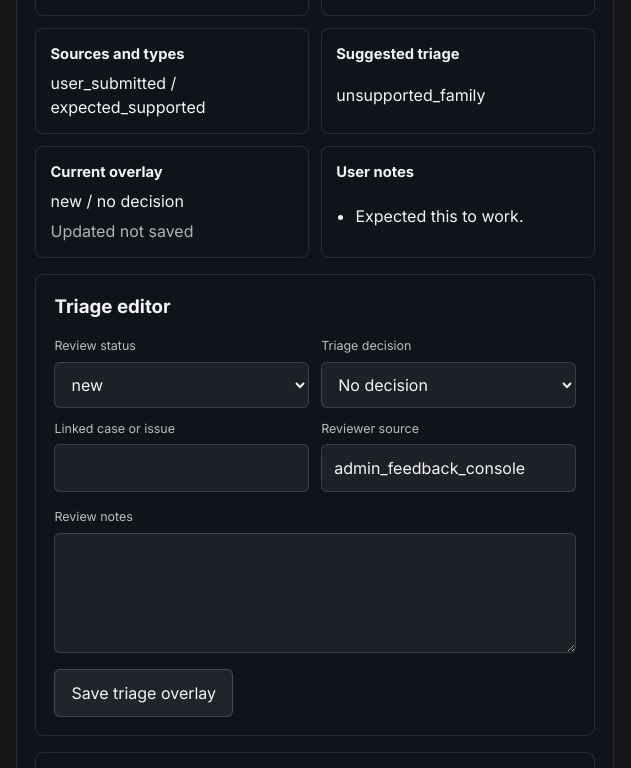
Test: AdminFeedbackPage › saves triage overlays without editing source feedback records
(page scrolled)
Select "reviewed" in the dropdown labelled "Review status" at (182, 385), box [54,362,309,408]
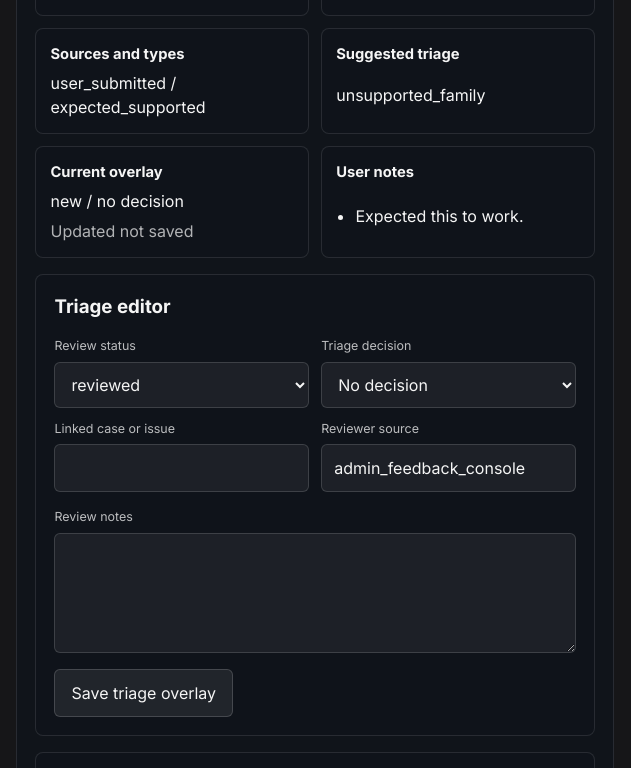
Select "bug" in the dropdown labelled "Triage decision" at (449, 385), box [321,362,576,408]
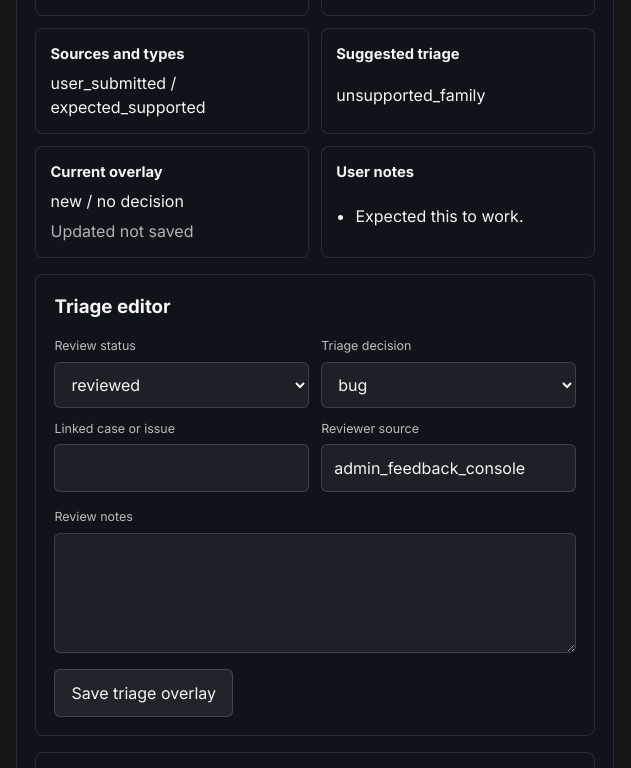
Type "Create regression test." into the text box labelled "Review notes" at (315, 593), box [54,533,576,653]
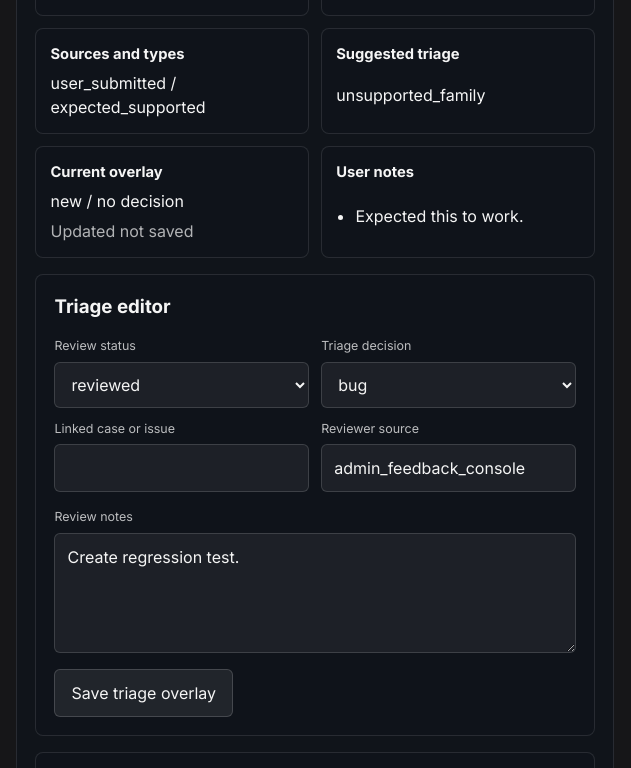
Type "RAW-123" into the field labelled "Linked case or issue" at (182, 468), box [54,444,309,492]
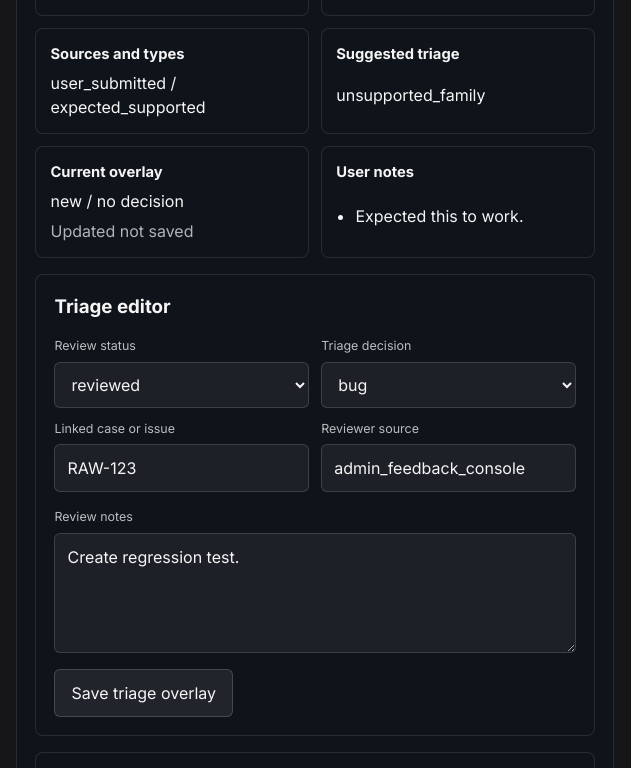
Click the button "Save triage overlay" at (144, 693), box [54,669,233,717]
(page scrolled)
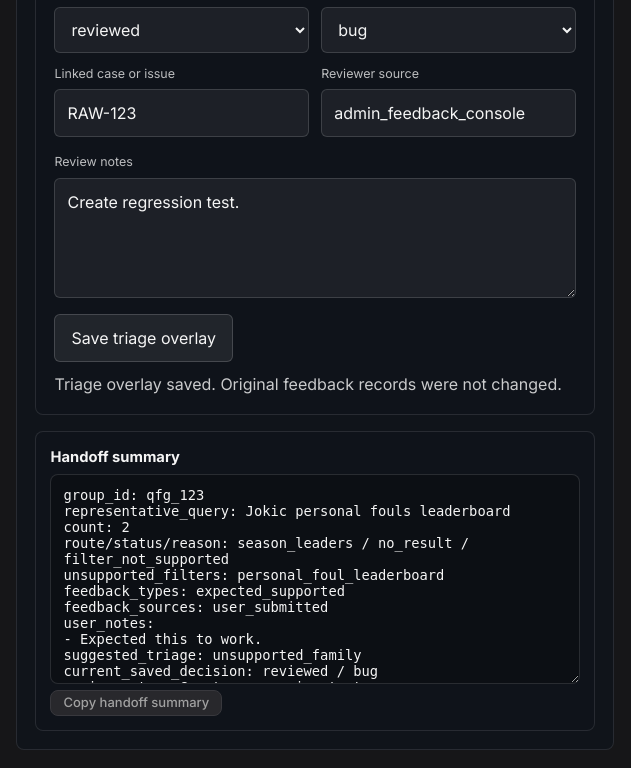
Check: the text "Original feedback records were not changed" is shown, box [54,374,562,394]
